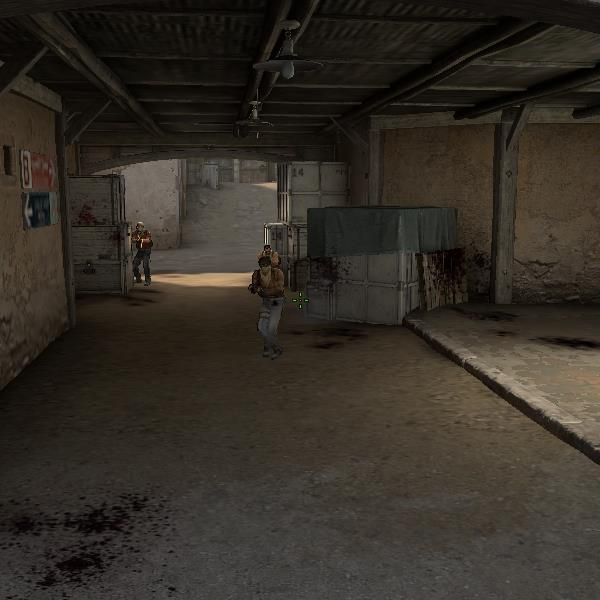t_body: (237, 255, 297, 364)
t_head: (255, 257, 276, 278)
